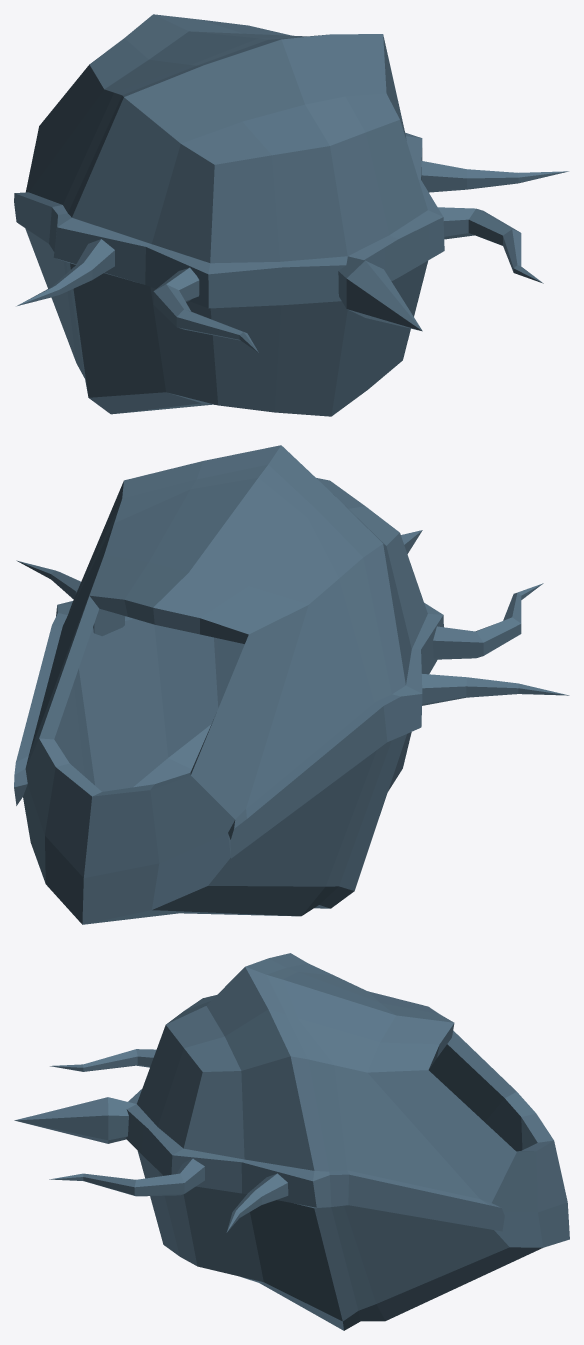
File: head.gltf
The picture shows the model from 3 angles, top to bottom: view 1: azimuth 30°, elevation 25°; view 2: azimuth 150°, elevation 25°; view 3: azimuth 270°, elevation 25°; orthographic projection. The views are drawn at different scales.
Parts seen in each view (by area): view 1: Cylinder.001; view 2: Cylinder.001; view 3: Cylinder.001.
Boxes of the visible parts, bbox=[...] form: Cylinder.001: bbox=[14, 14, 568, 416]; Cylinder.001: bbox=[14, 445, 569, 924]; Cylinder.001: bbox=[14, 953, 569, 1330].
Size of the model in its own units: 1.41 by 1 by 1.5.
